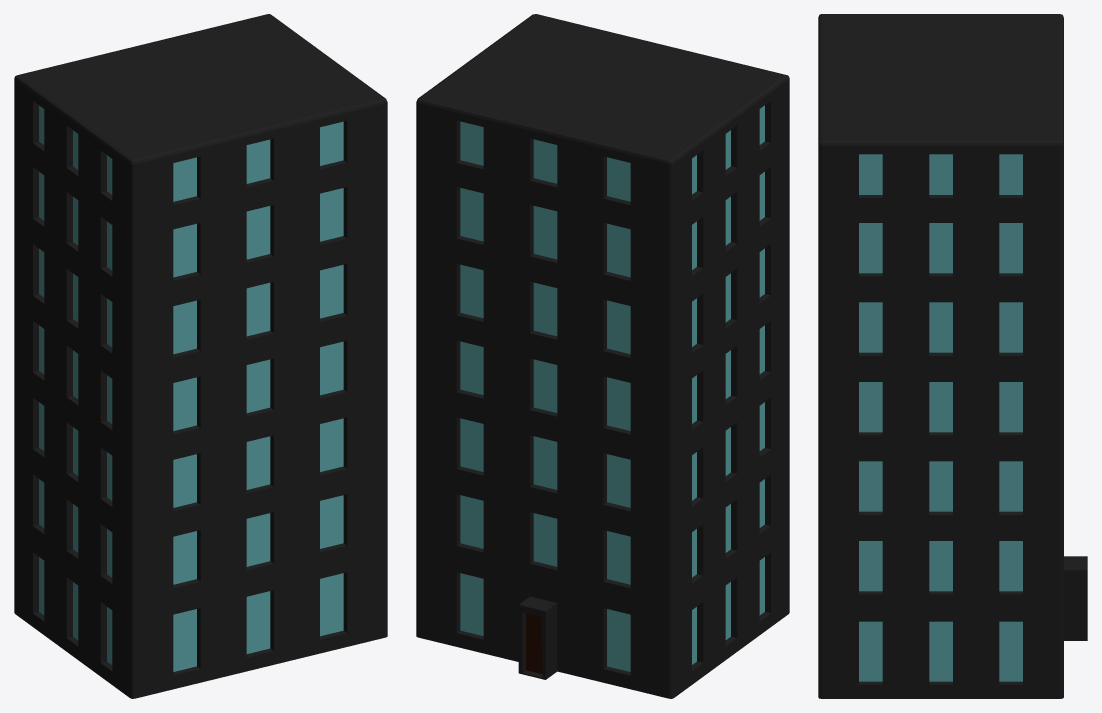
File: skyscraper_black.FBX
The picture shows the model from 3 angles, left to right: view 1: azimuth 30°, elevation 25°; view 2: azimuth 150°, elevation 25°; view 3: azimuth 270°, elevation 25°; orthographic projection. The views are drawn at different scales.
Parts seen in each view (by area): view 1: Box001, Object001; view 2: Box001, Object001, Object002; view 3: Box001, Object001.
Boxes of the visible parts, <box> form: Box001: <box>14,14,387,698</box>; Object001: <box>39,105,343,671</box>; Box001: <box>416,14,789,698</box>; Object001: <box>460,105,764,671</box>; Object002: <box>526,613,542,674</box>; Box001: <box>818,14,1087,698</box>; Object001: <box>859,154,1022,681</box>.
Bounding box in the file's own units: 100 × 200 × 87.75.
